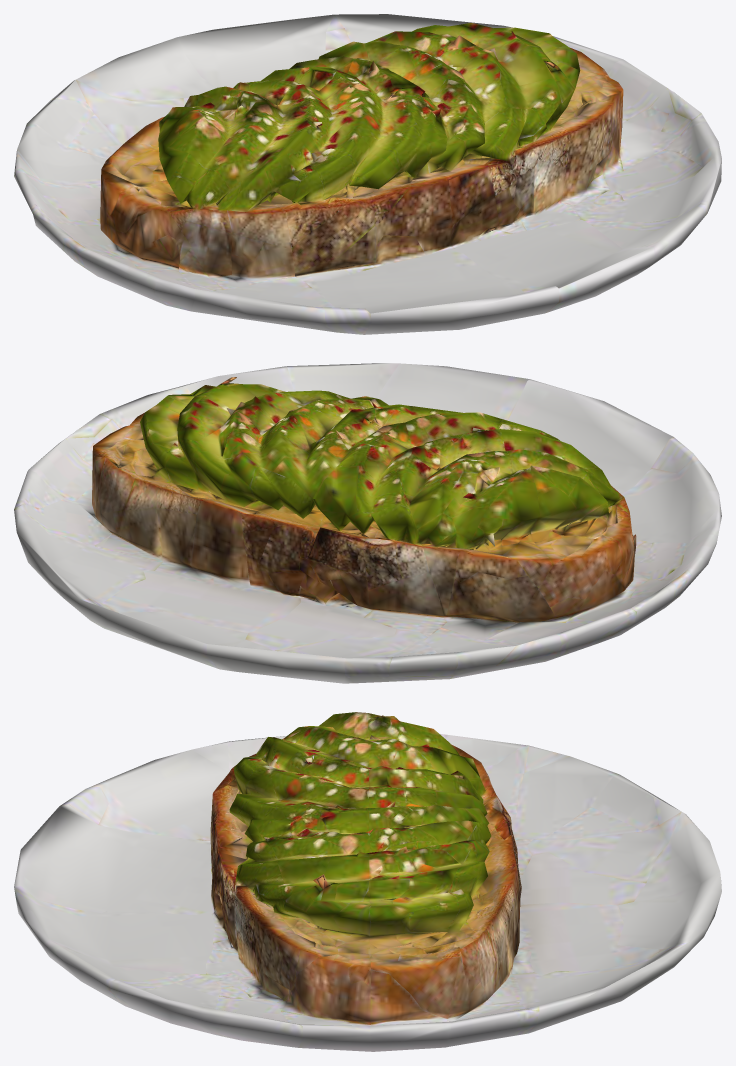
The model's file is avocado-toast-sv.glb.
3 renders of one model, top to bottom at view 1: azimuth 30°, elevation 25°; view 2: azimuth 150°, elevation 25°; view 3: azimuth 270°, elevation 25°, orthographic.
Visible parts, largest first — view 1: mesh_node; view 2: mesh_node; view 3: mesh_node.
Part boxes in pixels (bbox=[...]): mesh_node: bbox=[14, 14, 721, 334]; mesh_node: bbox=[14, 363, 721, 683]; mesh_node: bbox=[14, 712, 721, 1051].
Size of the model in its own units: 0.0287 by 0.00623 by 0.0287.
Materials: 1 (1 with a texture image).
